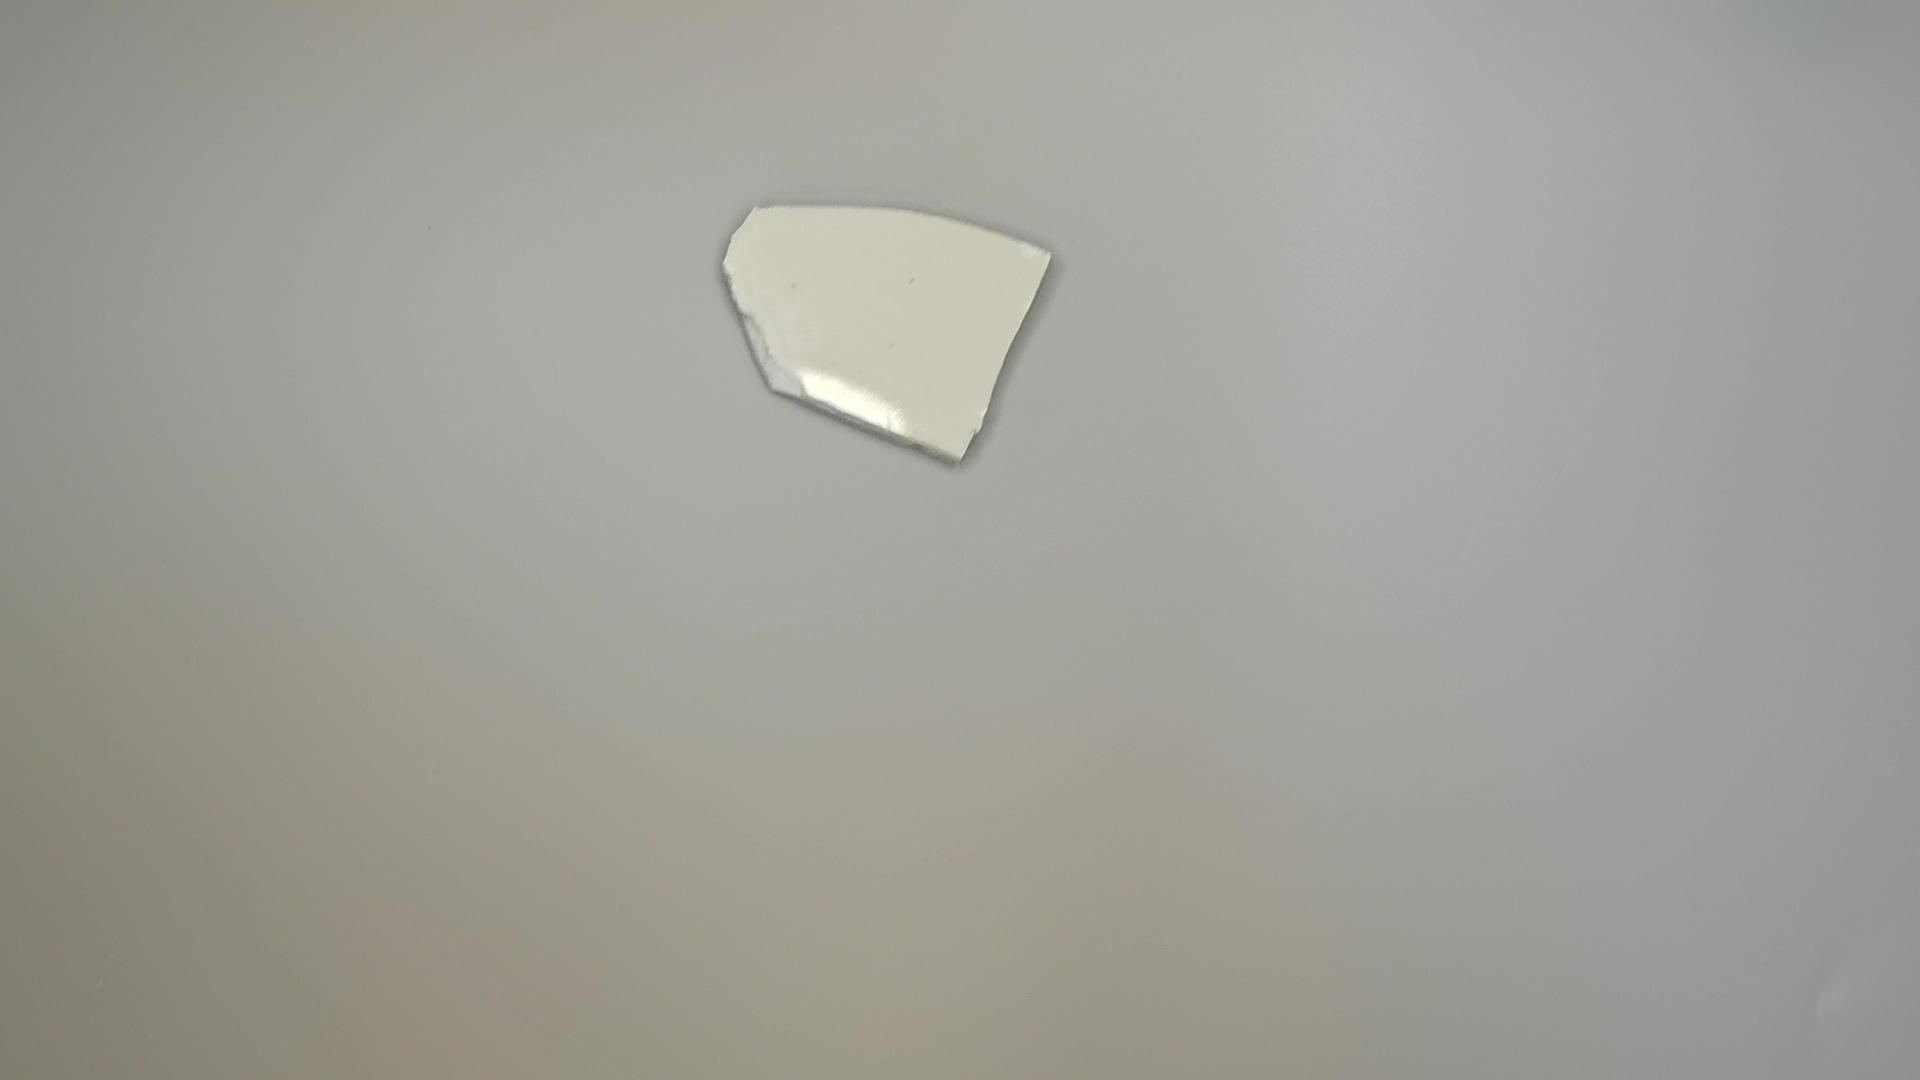ceramic: (715, 195, 1077, 477)
